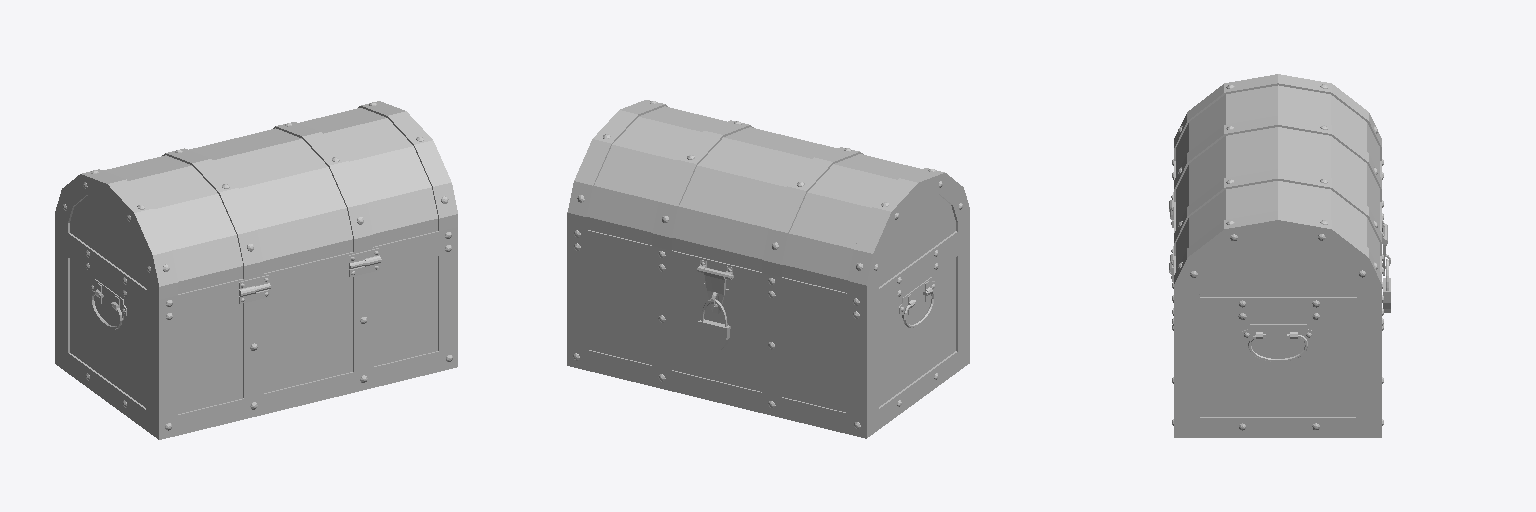
The model's file is chest.obj.
3 views of the same model, side by side, from view 1: azimuth 30°, elevation 25°; view 2: azimuth 150°, elevation 25°; view 3: azimuth 270°, elevation 25° (orthographic).
Parts seen in each view (by area): view 1: chest_Cube; view 2: chest_Cube; view 3: chest_Cube.
Part boxes in pixels (x1,y1,x2,y2): chest_Cube: (55, 101, 457, 439); chest_Cube: (567, 100, 969, 438); chest_Cube: (1169, 74, 1390, 437).
Bounding box in the file's own units: 17.92 × 12.25 × 11.28.